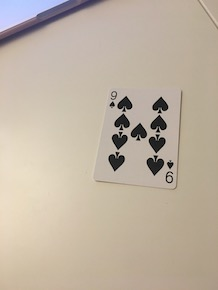NineOfSpades: (88, 85, 185, 193)
